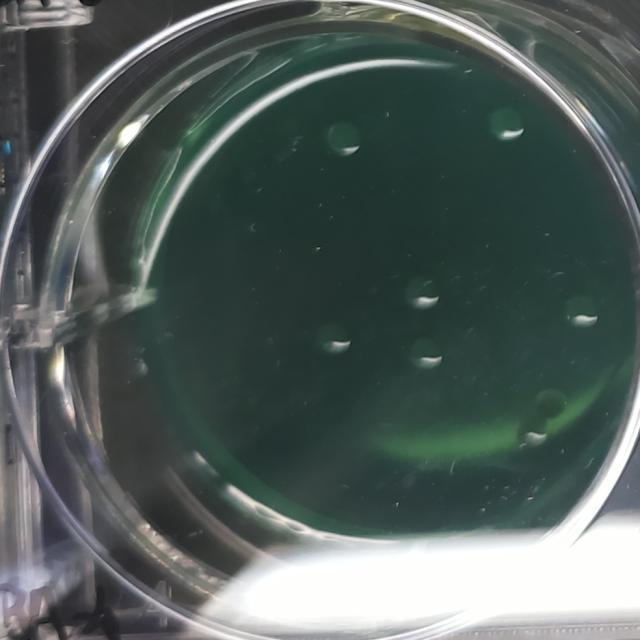vibrio: (511, 385, 573, 449), (317, 116, 367, 164), (485, 99, 529, 147), (559, 291, 606, 333), (314, 316, 357, 361), (403, 333, 446, 375), (401, 272, 443, 313)
